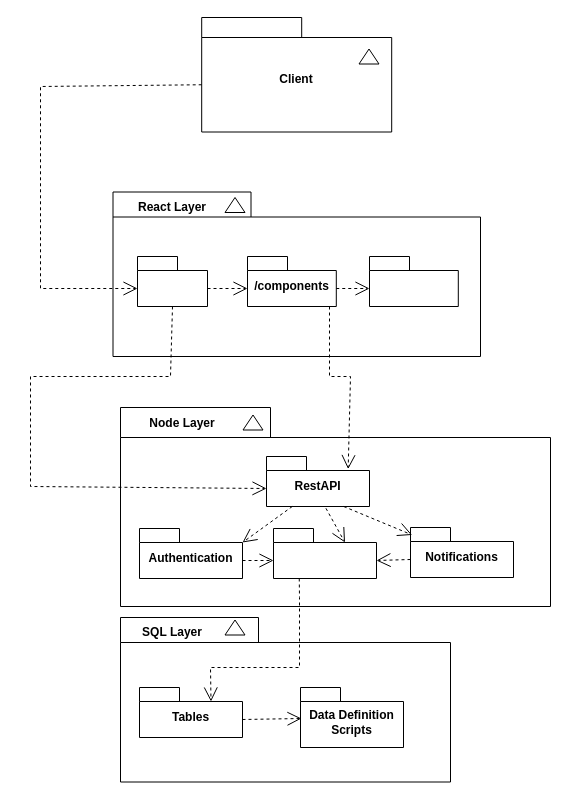
This 568x800 diagram has some shape labels left out. Each missing label, with the centre of its shape:
/assets: point (413, 281)
/src: point (172, 281)
Database Query: point (324, 553)
